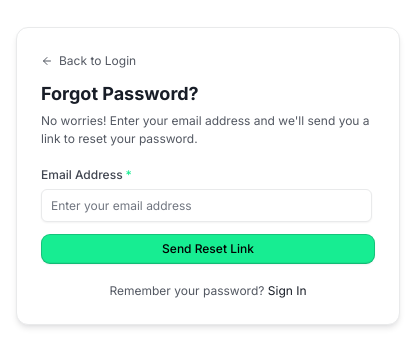
it: ForgotPasswordPage › Email Validation › should show invalid email error for malformed email
The width and height of the screenshot is (417, 357).
Type "invalid-email" into the field with placeholder "Enter your email address" at point(206, 205), box [41,189,372,222]
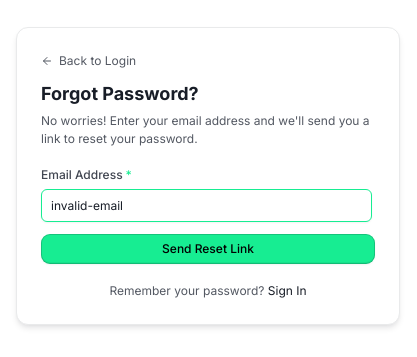
Press Tab
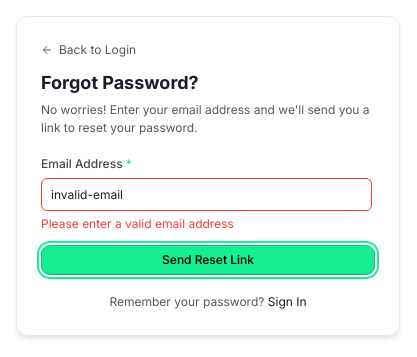
Expected: the text "Please enter a valid email address" is shown, [41,216,234,231]
